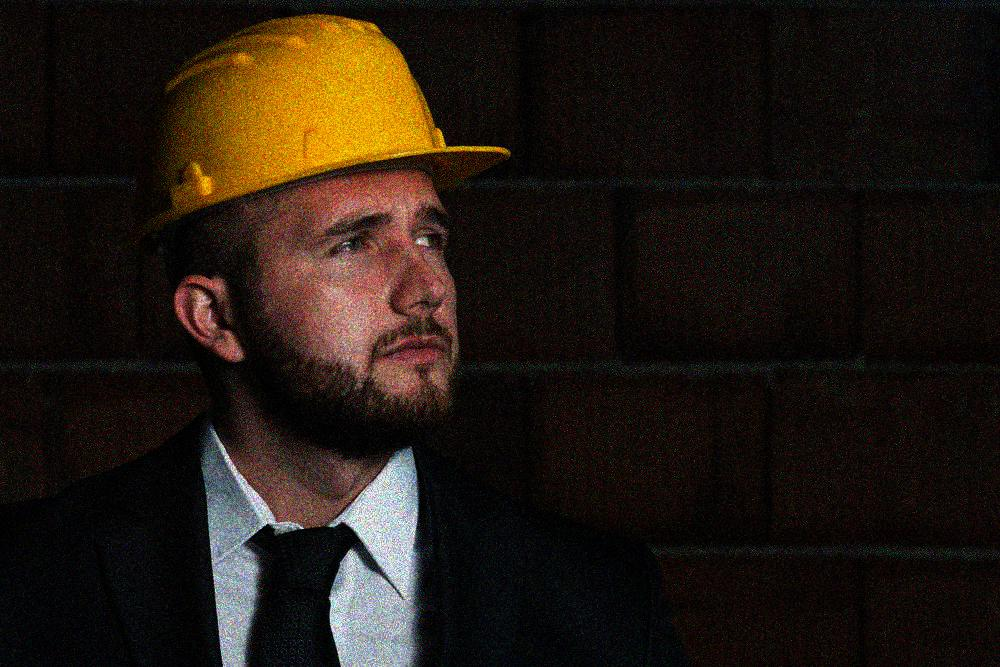helmet: (127, 14, 522, 443)
